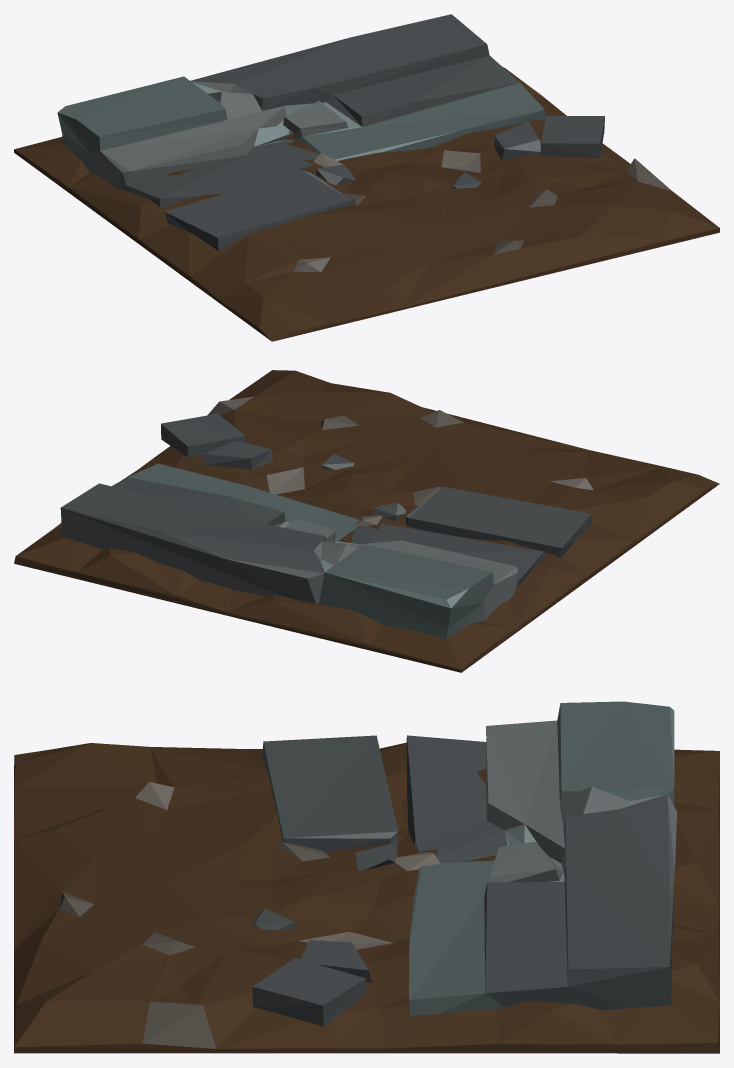
File: MDungeon_SoilGroundTile_Steps_01.FBX
3 renders of one model, top to bottom at view 1: azimuth 30°, elevation 25°; view 2: azimuth 150°, elevation 25°; view 3: azimuth 270°, elevation 25°, orthographic. The views are drawn at different scales.
Parts seen in each view (by area): view 1: MDungeon_SoilGroundTile_Steps_01_LOD0; view 2: MDungeon_SoilGroundTile_Steps_01_LOD0; view 3: MDungeon_SoilGroundTile_Steps_01_LOD0.
Boxes of the visible parts, box(x1,y1,x2,y2) form: MDungeon_SoilGroundTile_Steps_01_LOD0: box(14, 14, 719, 341); MDungeon_SoilGroundTile_Steps_01_LOD0: box(14, 370, 719, 672); MDungeon_SoilGroundTile_Steps_01_LOD0: box(14, 701, 719, 1053).
Size of what is drawn, in the model's own units: 6.27 by 0.745 by 6.27.
